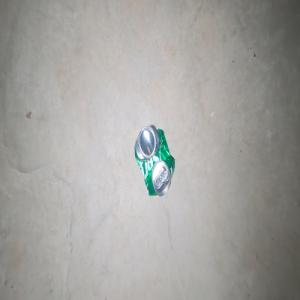SodaCan: (133, 123, 175, 196)
